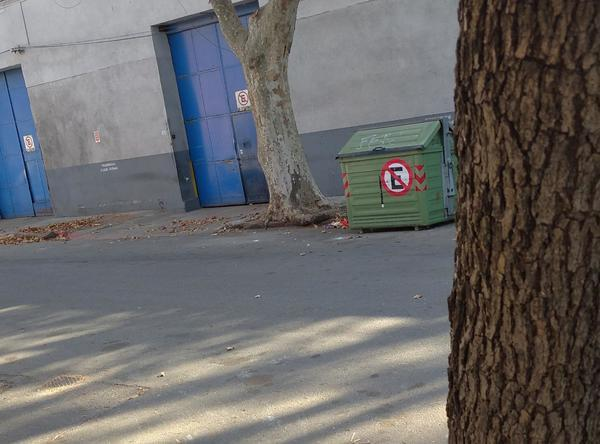Dechets: (330, 213, 348, 229)
Trash: (336, 117, 456, 231)
